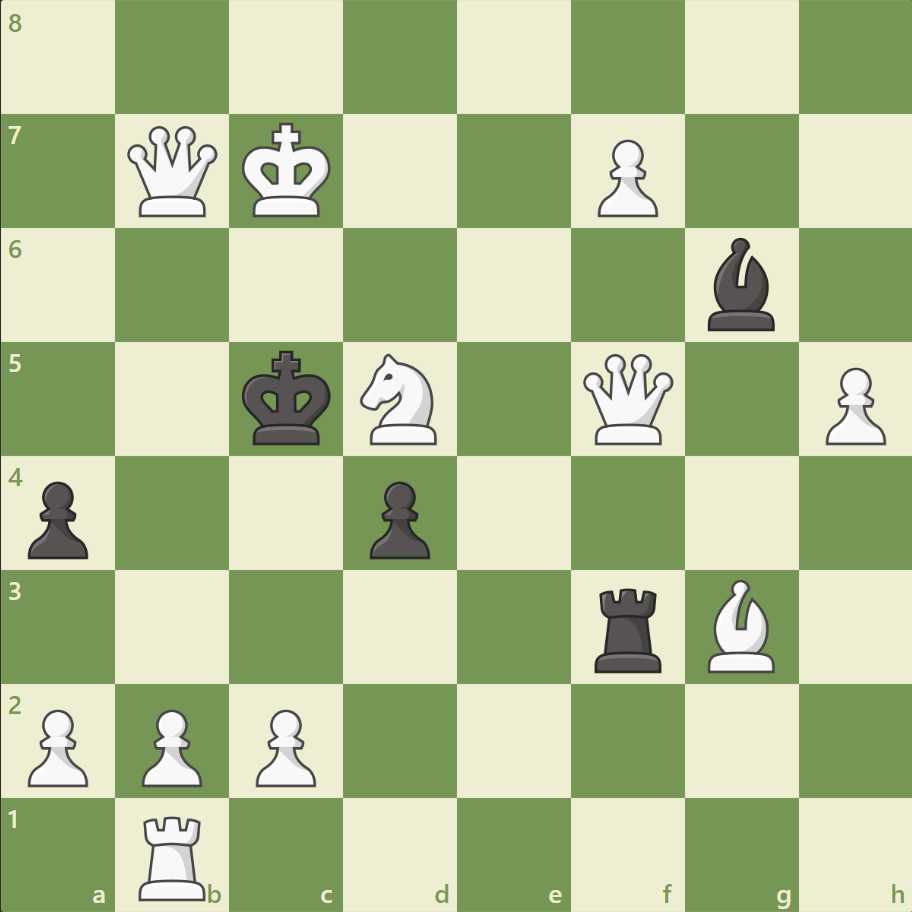B: (698, 574, 782, 676)
K: (238, 117, 338, 225)
N: (351, 348, 449, 450)
P: (20, 700, 95, 791), (133, 700, 208, 791), (247, 700, 322, 791), (588, 132, 662, 223), (815, 359, 889, 450)
Q: (124, 122, 223, 222), (578, 349, 677, 449)
R: (133, 806, 215, 904)
b: (698, 233, 782, 336)
k: (238, 344, 338, 452)
p: (20, 473, 95, 564), (361, 473, 435, 564)
r: (587, 579, 670, 676)
